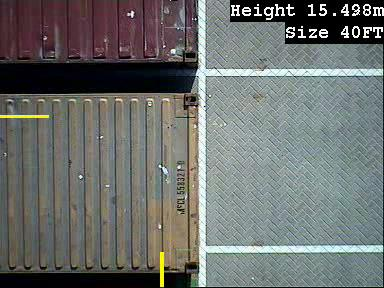groundmarker_2: (199, 132, 237, 194)
